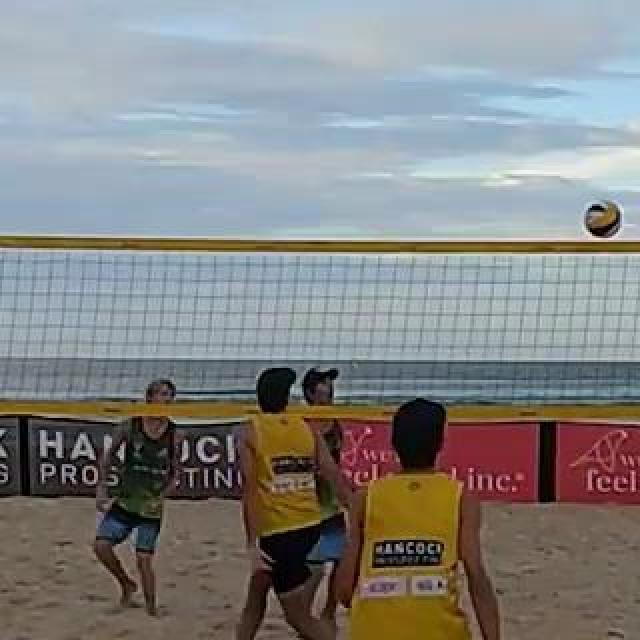volleyball: (585, 202, 621, 238)
